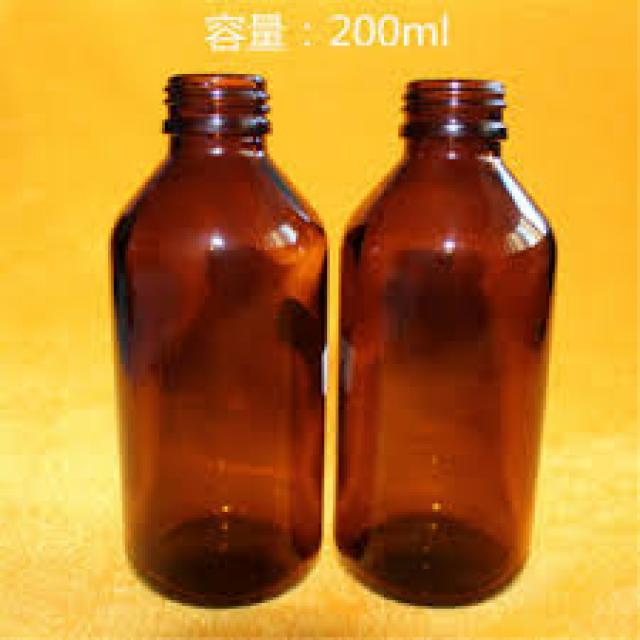Glass: (107, 66, 330, 611), (334, 71, 559, 610)
